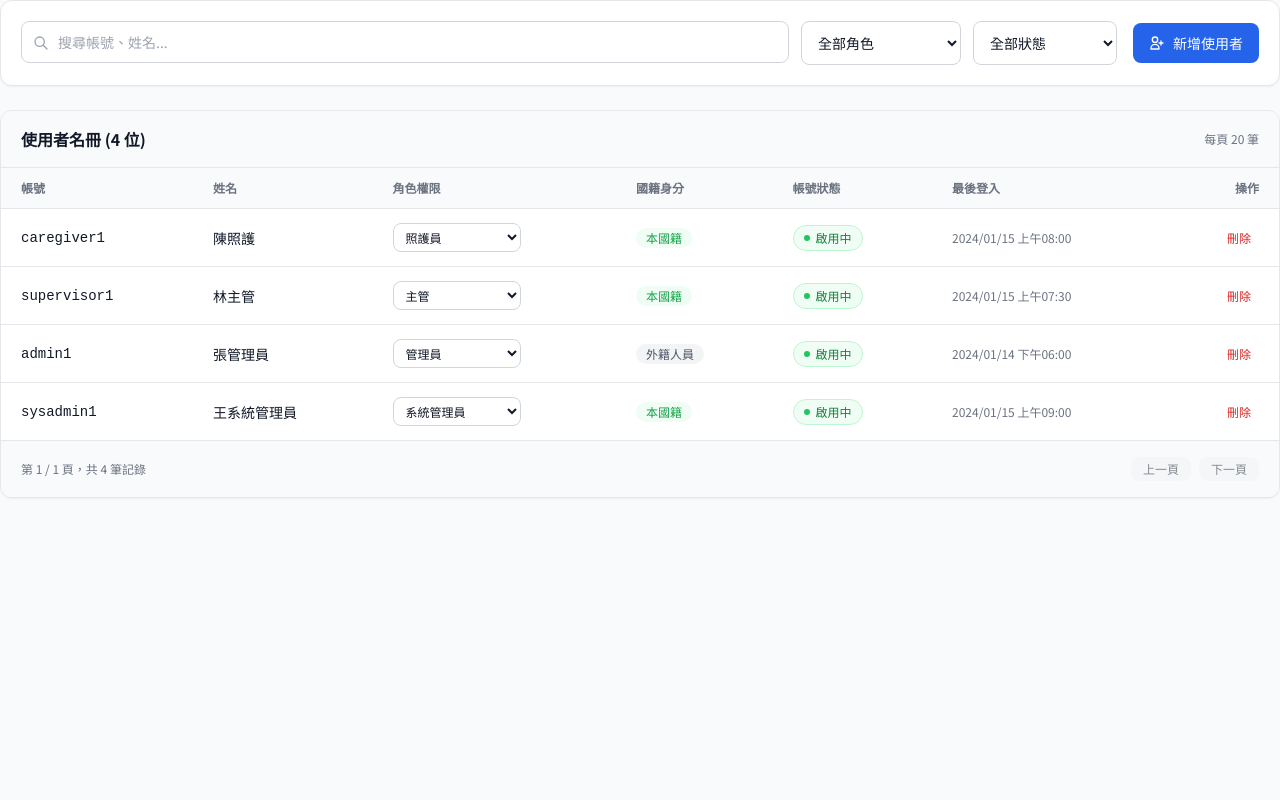
Test: User Management View (Features F6, F7, F8, F21) › toggles user status via inline button and protects last sysadmin
Click the button with aria-label "切換 陳照護 帳號狀態": click(828, 238) [793,224,863,250]
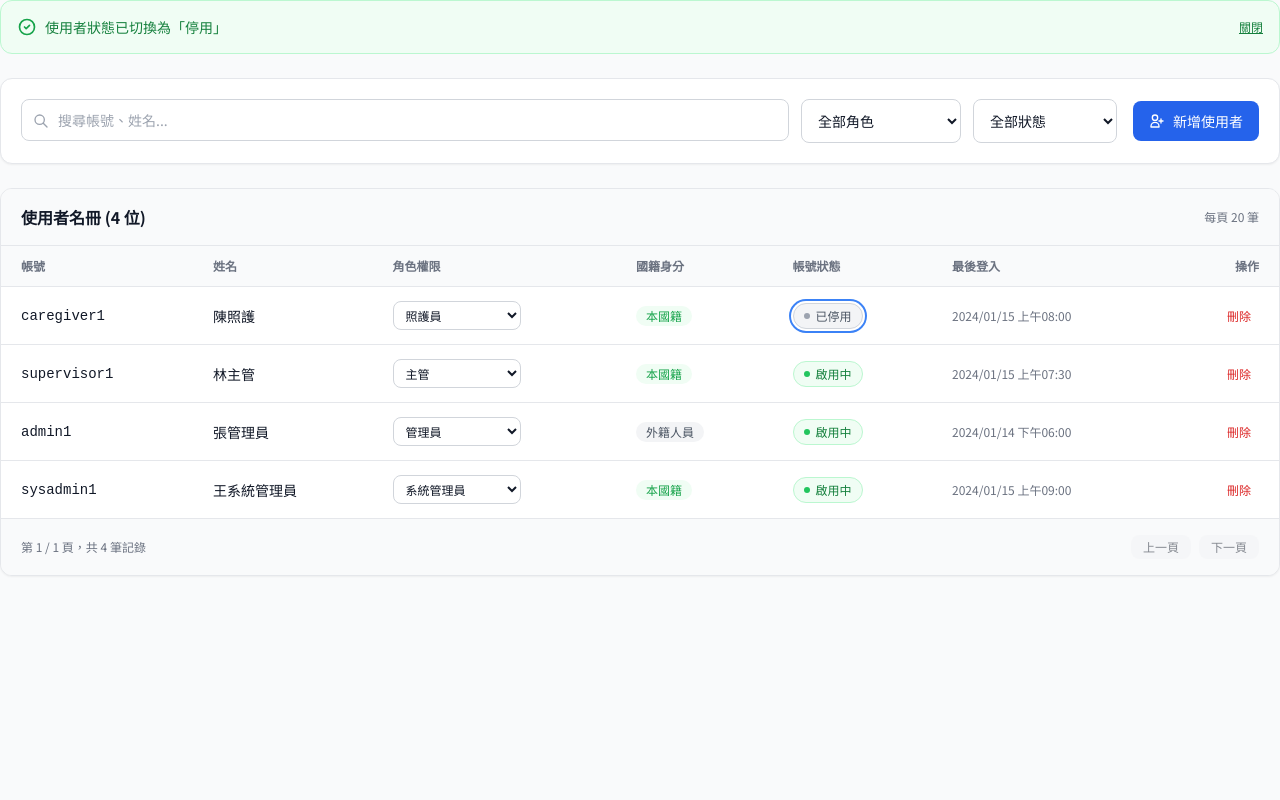
Expected: the text "使用者狀態已切換為「停用」" is shown, [45,17,227,37]
Click the button with aria-label "切換 王系統管理員 帳號狀態": click(828, 490) [793,476,863,502]
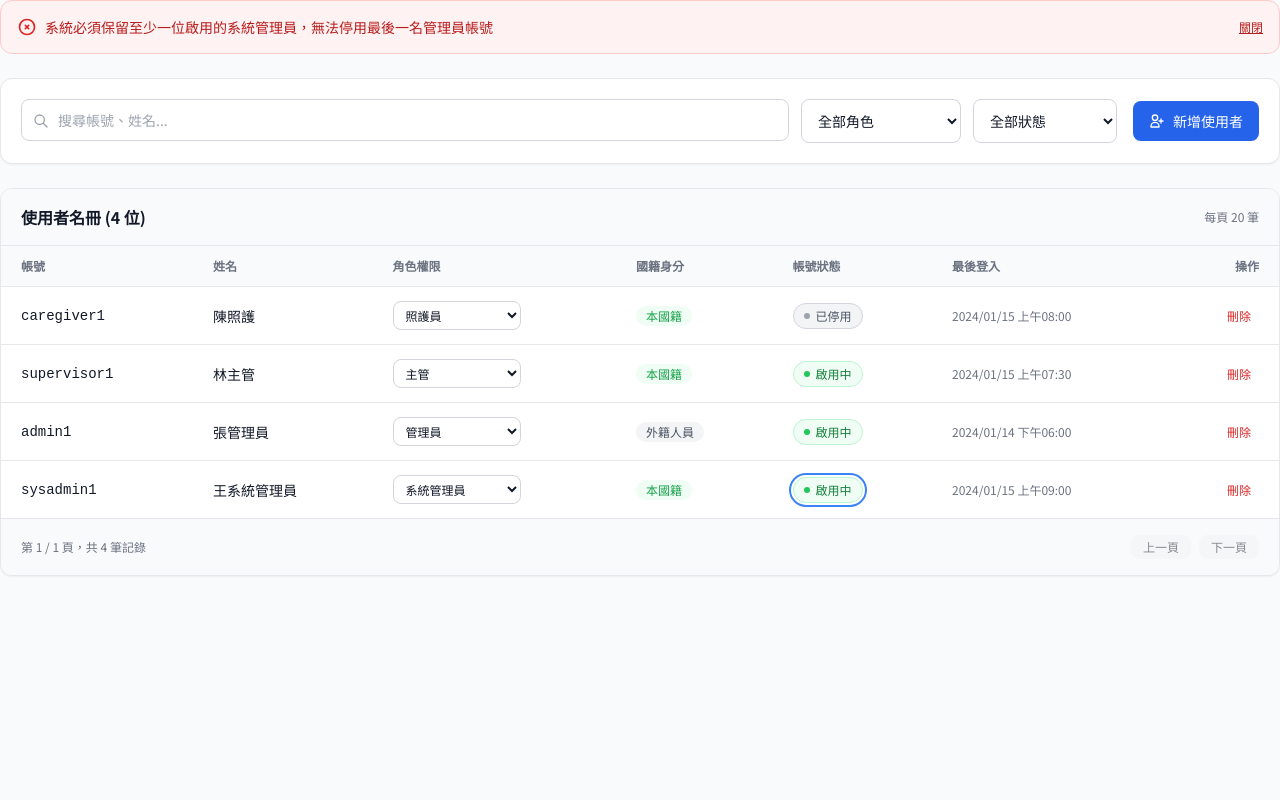
Expected: the text "系統必須保留至少一位啟用的系統管理員，無法停用最後一名管理員帳號" is shown, [45,17,493,37]
